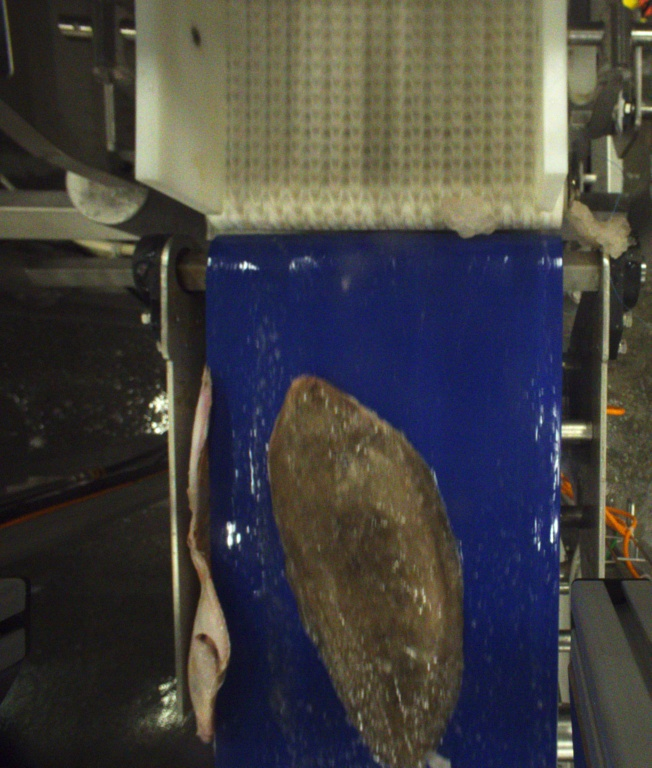SOL: (267, 376, 468, 767)
